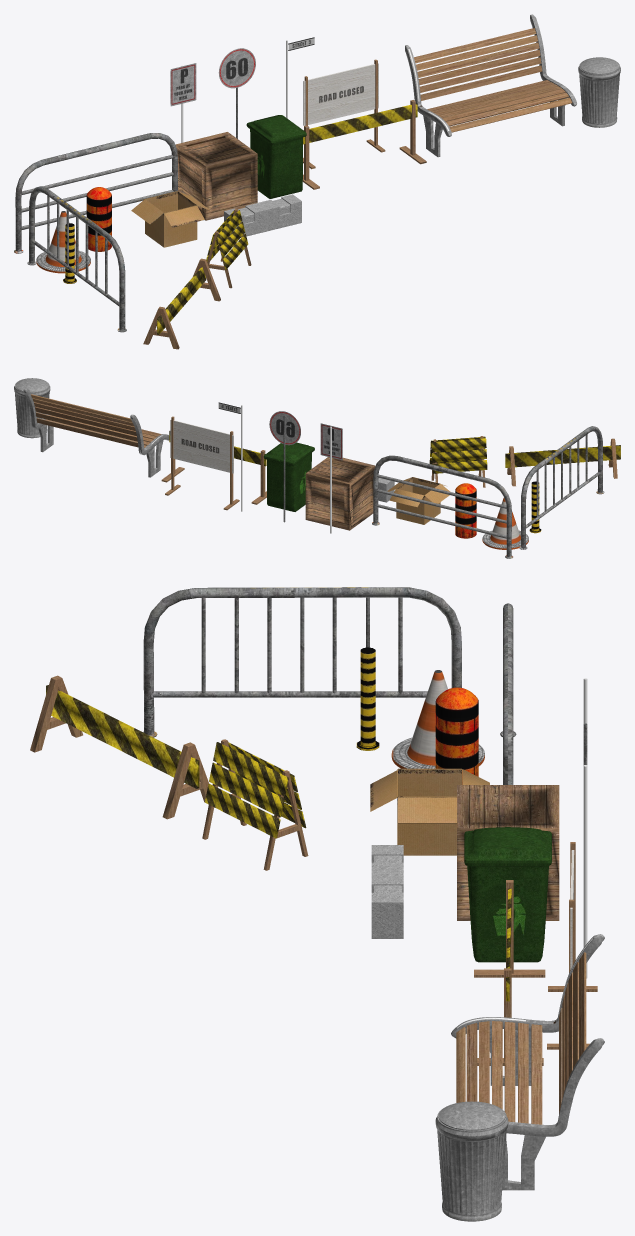
File: objetos_rua.glb
The picture shows the model from 3 angles, top to bottom: view 1: azimuth 30°, elevation 25°; view 2: azimuth 150°, elevation 25°; view 3: azimuth 270°, elevation 25°; orthographic projection. The views are drawn at different scales.
Parts seen in each view (by area): view 1: 3DSMeshMatrix (×20); view 2: 3DSMeshMatrix (×24); view 3: 3DSMeshMatrix (×22).
Boxes of the visible parts, left/top/right/bottom form: 3DSMeshMatrix (×20): left=15, top=14, right=620, bottom=349; 3DSMeshMatrix (×24): left=14, top=378, right=620, bottom=556; 3DSMeshMatrix (×22): left=30, top=587, right=604, bottom=1221.
Size of the model in its own units: 7.09 by 1.49 by 3.48.
Materials: 4 (3 with a texture image).
